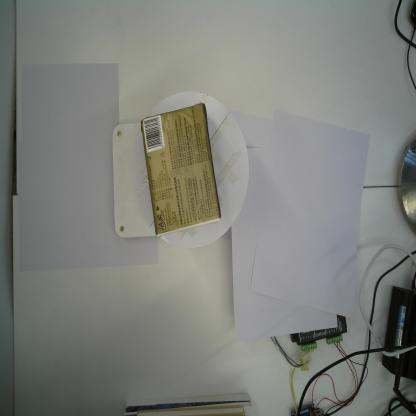Tissue: (140, 102, 222, 239)
